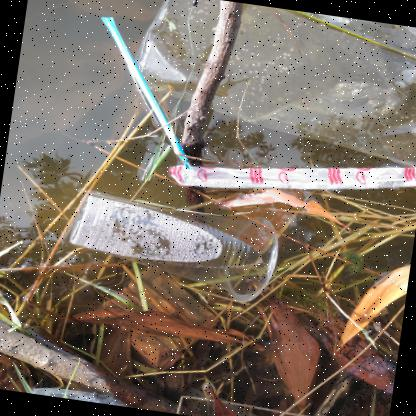Disposable plastic cup: (69, 191, 277, 301)
Plastic film: (135, 0, 416, 167), (168, 165, 416, 189), (184, 386, 258, 416), (32, 388, 133, 407)
Plastic straw: (100, 16, 192, 170)
